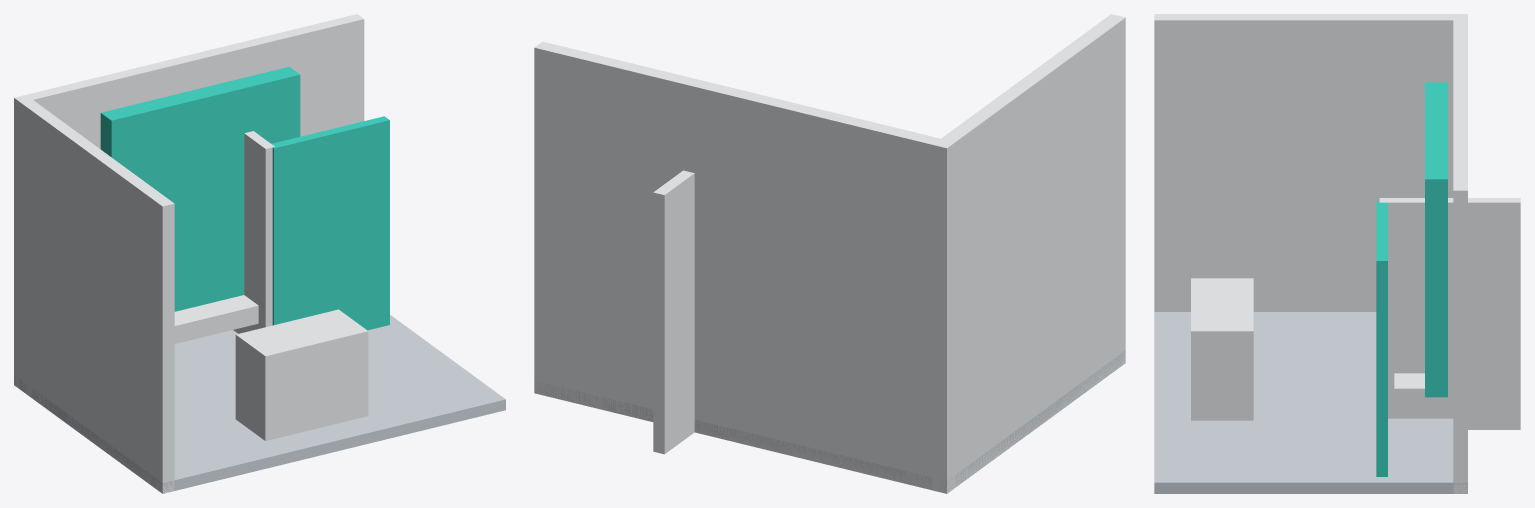
3 renders of one model, left to right at view 1: azimuth 30°, elevation 25°; view 2: azimuth 150°, elevation 25°; view 3: azimuth 270°, elevation 25°, orthographic. The views are drawn at different scales.
Visible parts, largest first — view 1: Exhibition Booth Concept; view 2: Exhibition Booth Concept; view 3: Exhibition Booth Concept.
Part boxes in pixels (box(x1,y1,x2,y2)): Exhibition Booth Concept: box(14, 14, 505, 493); Exhibition Booth Concept: box(534, 14, 1125, 493); Exhibition Booth Concept: box(1154, 14, 1520, 493).
Bounding box in the file's own units: 4 × 3.2 × 3.51.
